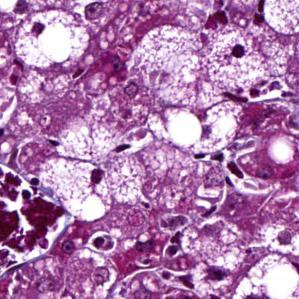ballooning: (39, 153, 116, 225), (14, 7, 91, 73), (194, 97, 244, 156), (238, 253, 296, 296)
